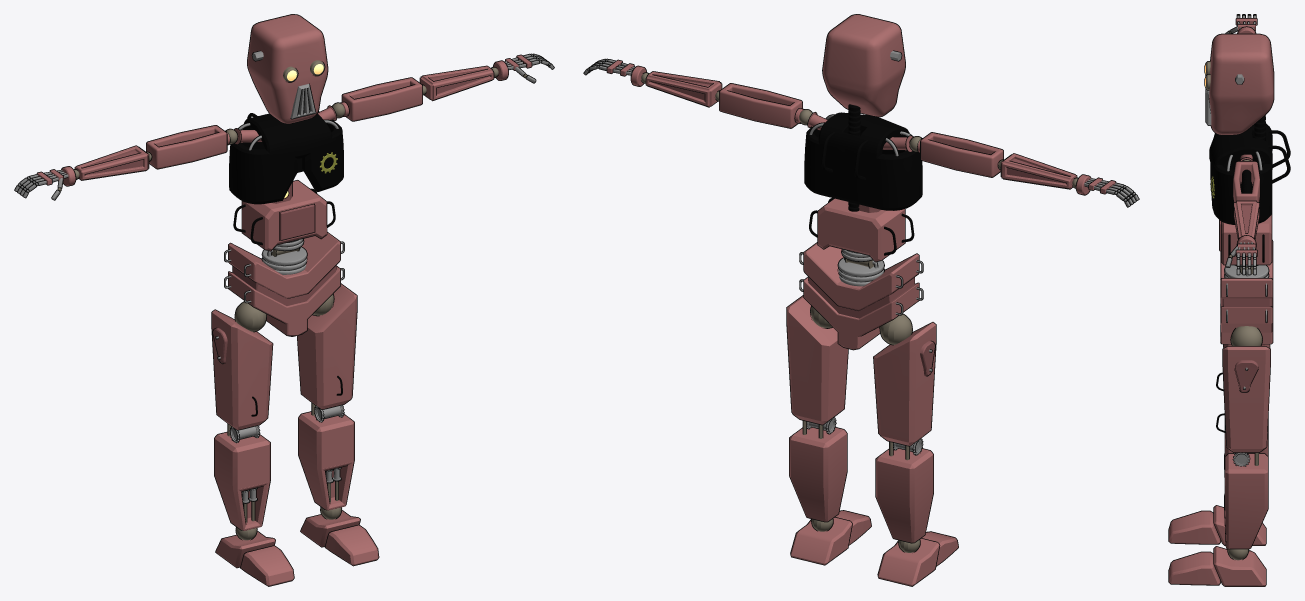
File: Robot1M.fbx
The picture shows the model from 3 angles, left to right: view 1: azimuth 30°, elevation 25°; view 2: azimuth 150°, elevation 25°; view 3: azimuth 270°, elevation 25°; orthographic projection. The views are drawn at different scales.
Parts seen in each view (by area): view 1: Circle; view 2: Circle; view 3: Circle.
Part boxes in pixels (x1,y1,x2,y2): Circle: (14, 14, 554, 586); Circle: (583, 14, 1139, 586); Circle: (1168, 14, 1290, 586).
Bounding box in the file's own units: 428 × 402 × 86.3.
